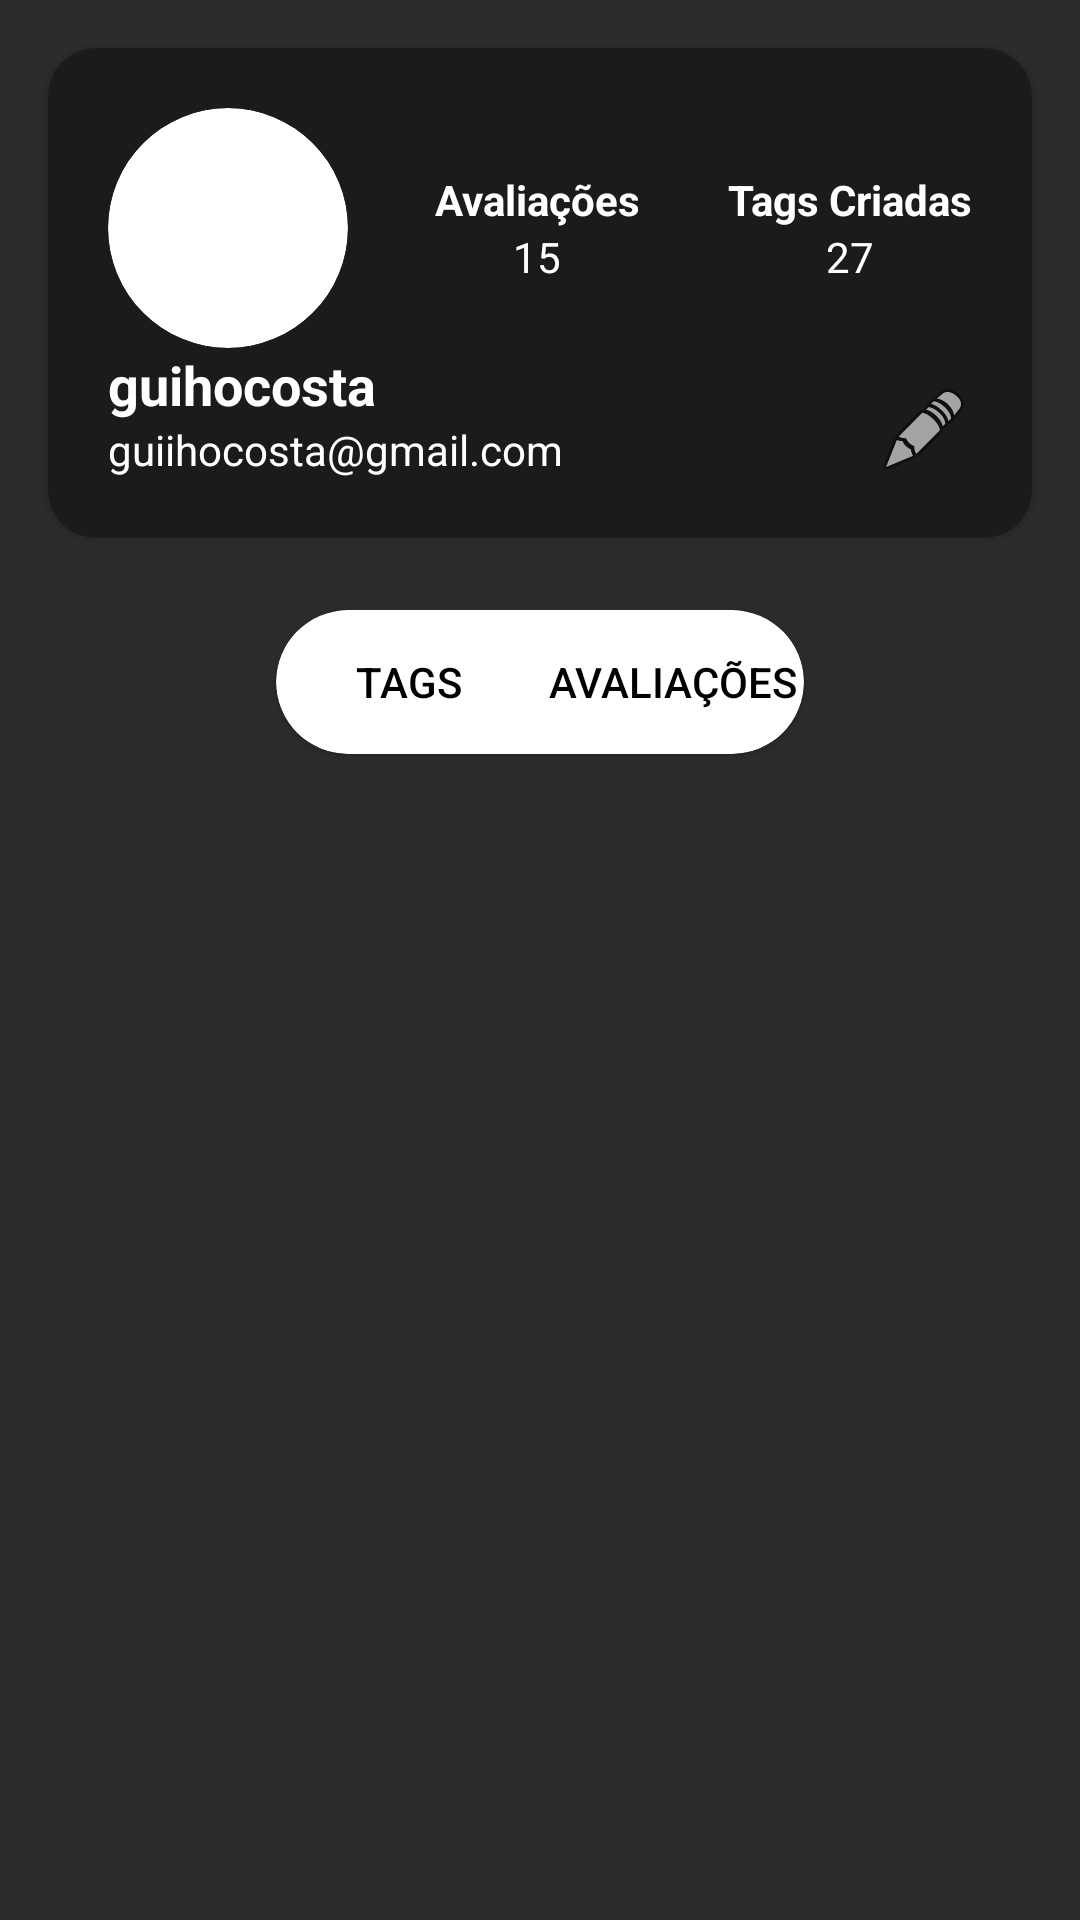

Locate icon controls on the screen. Image size 1080*1920, boxes as BBox(x1, y1, x2, y2).
edit: BBox(886, 392, 961, 467)
